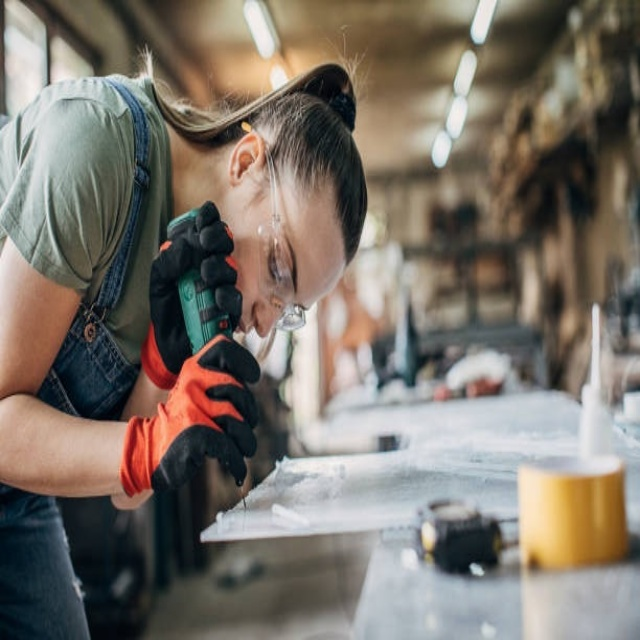Gafas: (254, 137, 311, 330)
Guantes: (113, 336, 266, 505), (145, 202, 247, 385)
